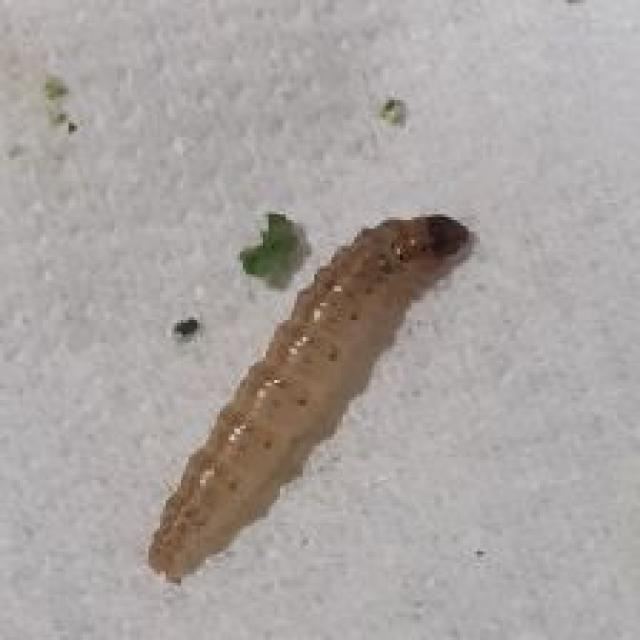white mucus: (111, 190, 511, 579)
